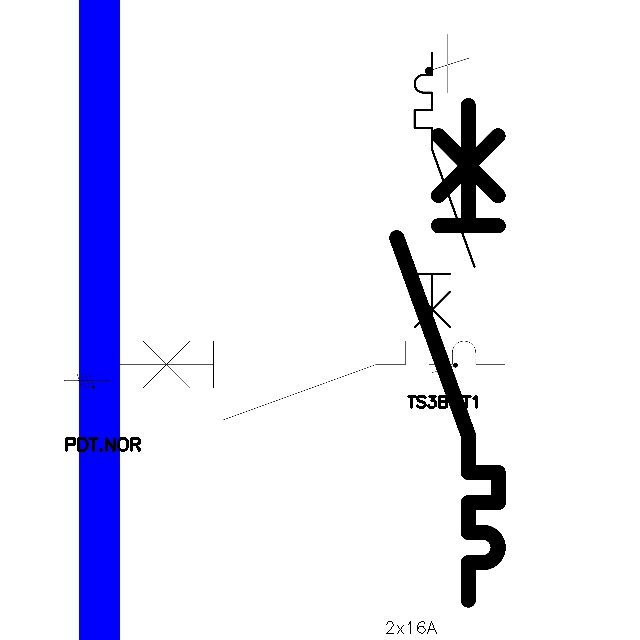interruptor_termomagnetico: (384, 92, 511, 612), (109, 331, 514, 430), (407, 45, 482, 352)
